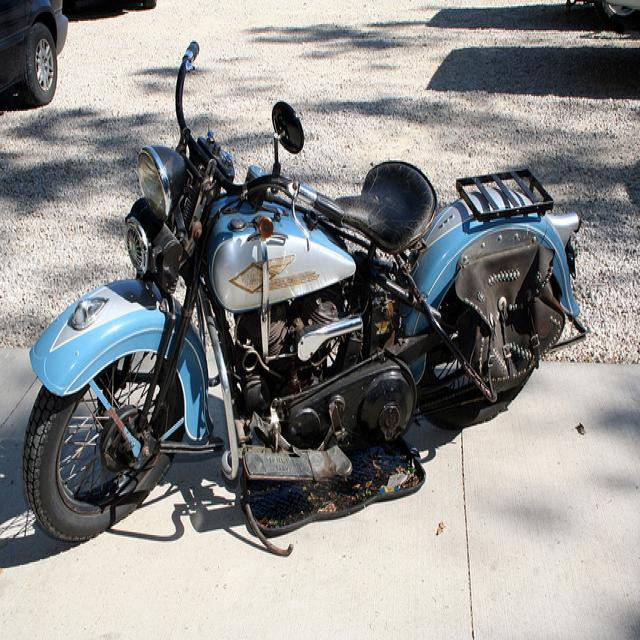motor: (23, 42, 586, 544)
